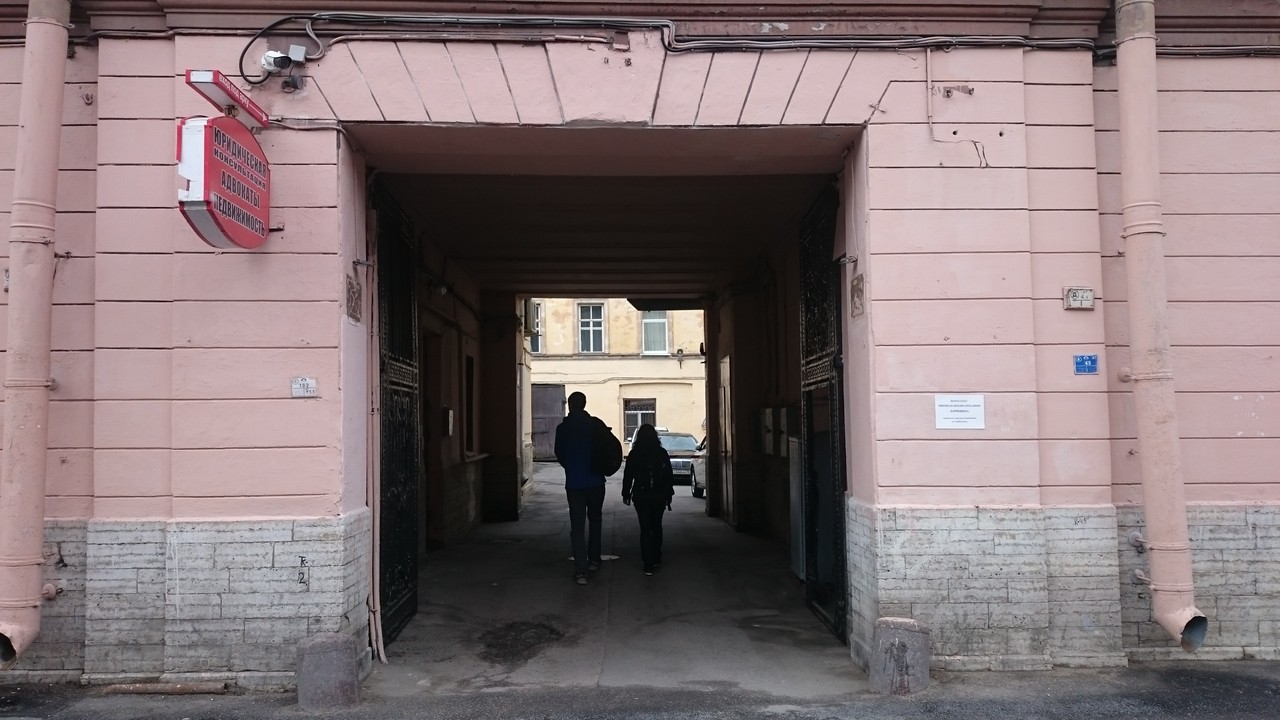arch: (332, 114, 880, 688)
cantilever: (175, 61, 293, 255)
